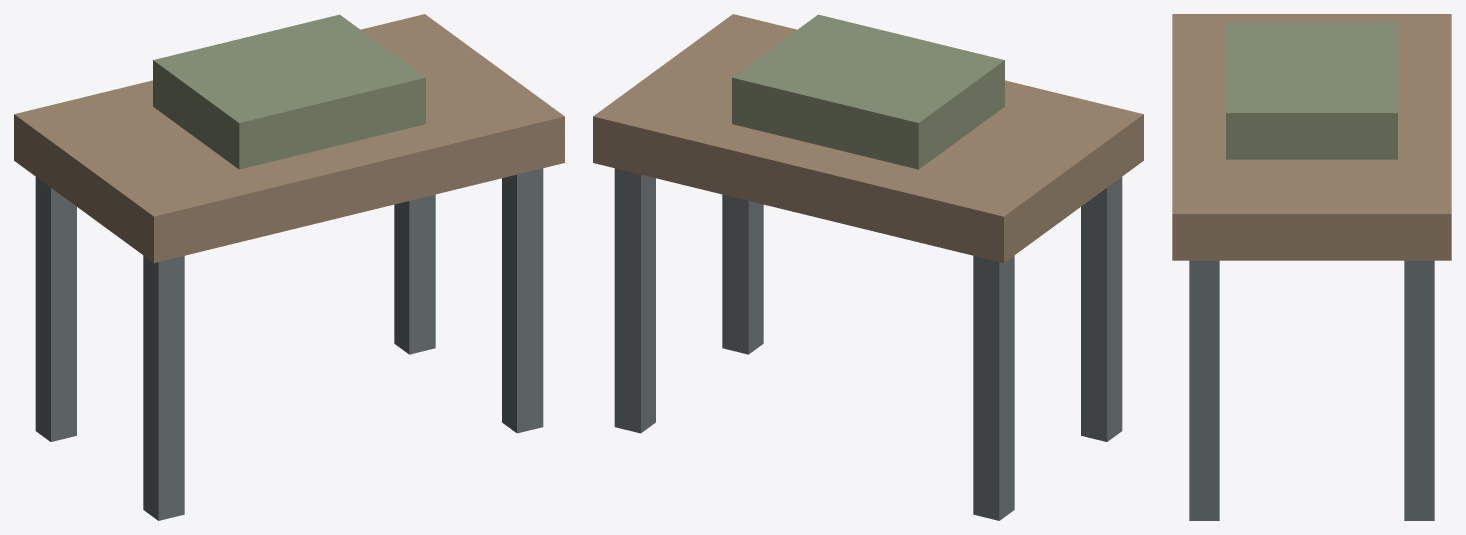
Rendered from iz2_food_grain_mill.glb.
3 views of the same model, side by side, from view 1: azimuth 30°, elevation 25°; view 2: azimuth 150°, elevation 25°; view 3: azimuth 270°, elevation 25° (orthographic).
Parts seen in each view (by area): view 1: body; view 2: body; view 3: body.
Boxes of the visible parts, x1,y1,x2,y2 form: body: (14,14,564,520); body: (593,14,1143,520); body: (1172,14,1451,520).
Size of the model in its own units: 1.08 by 0.9068 by 0.6386.
